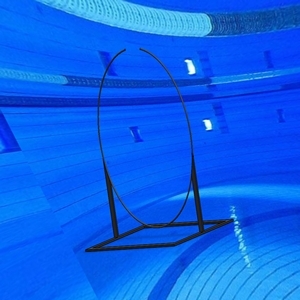circle: (84, 46, 235, 253)
